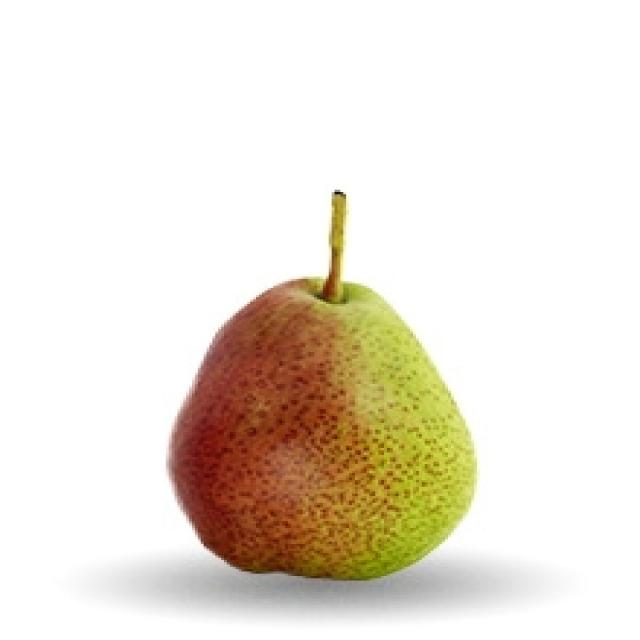Quả lê: (163, 188, 477, 580)
